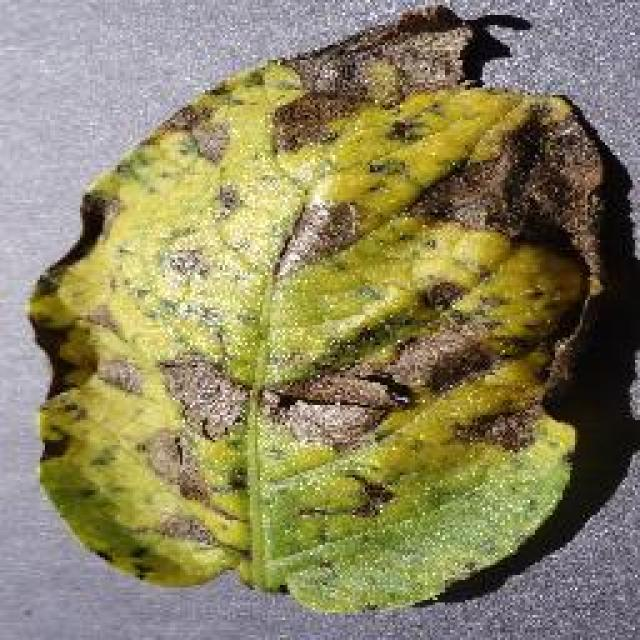green waste: (20, 0, 597, 638)
